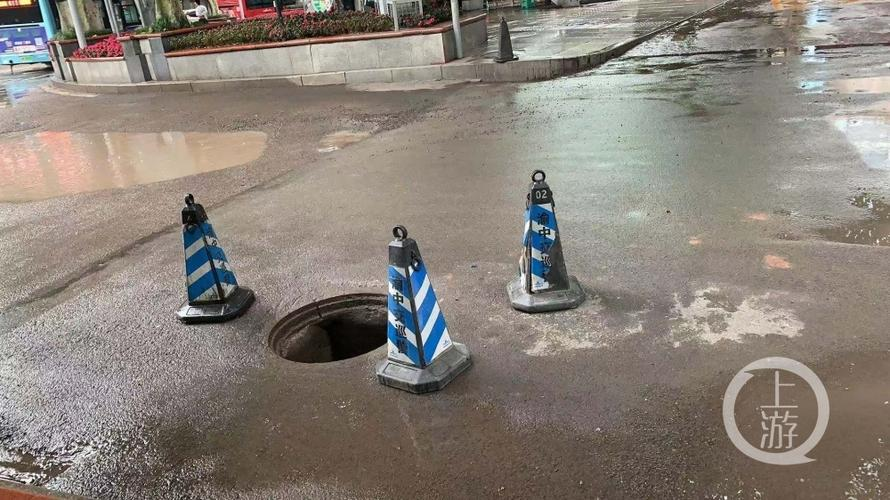lose: (259, 271, 418, 374)
